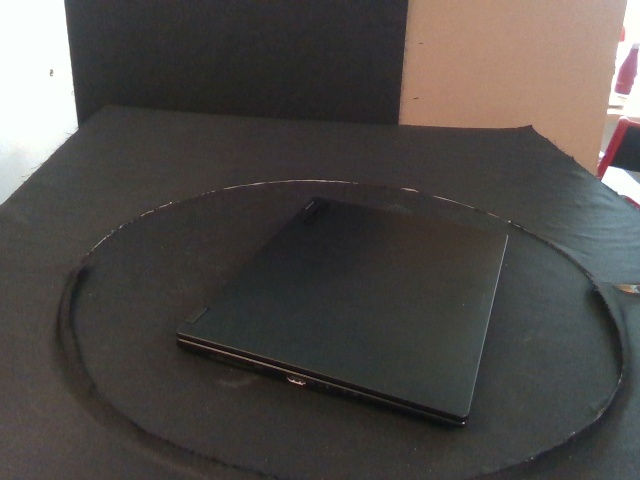laptop: (175, 194, 510, 431)
